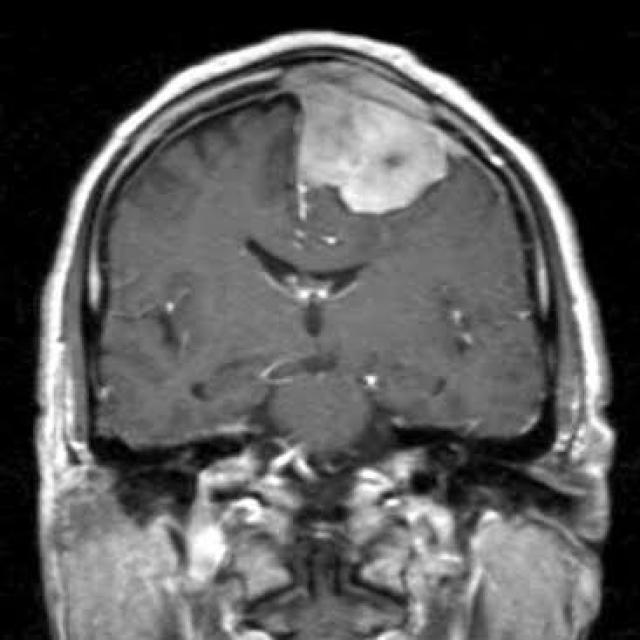brain_tumor: (293, 78, 447, 218)
